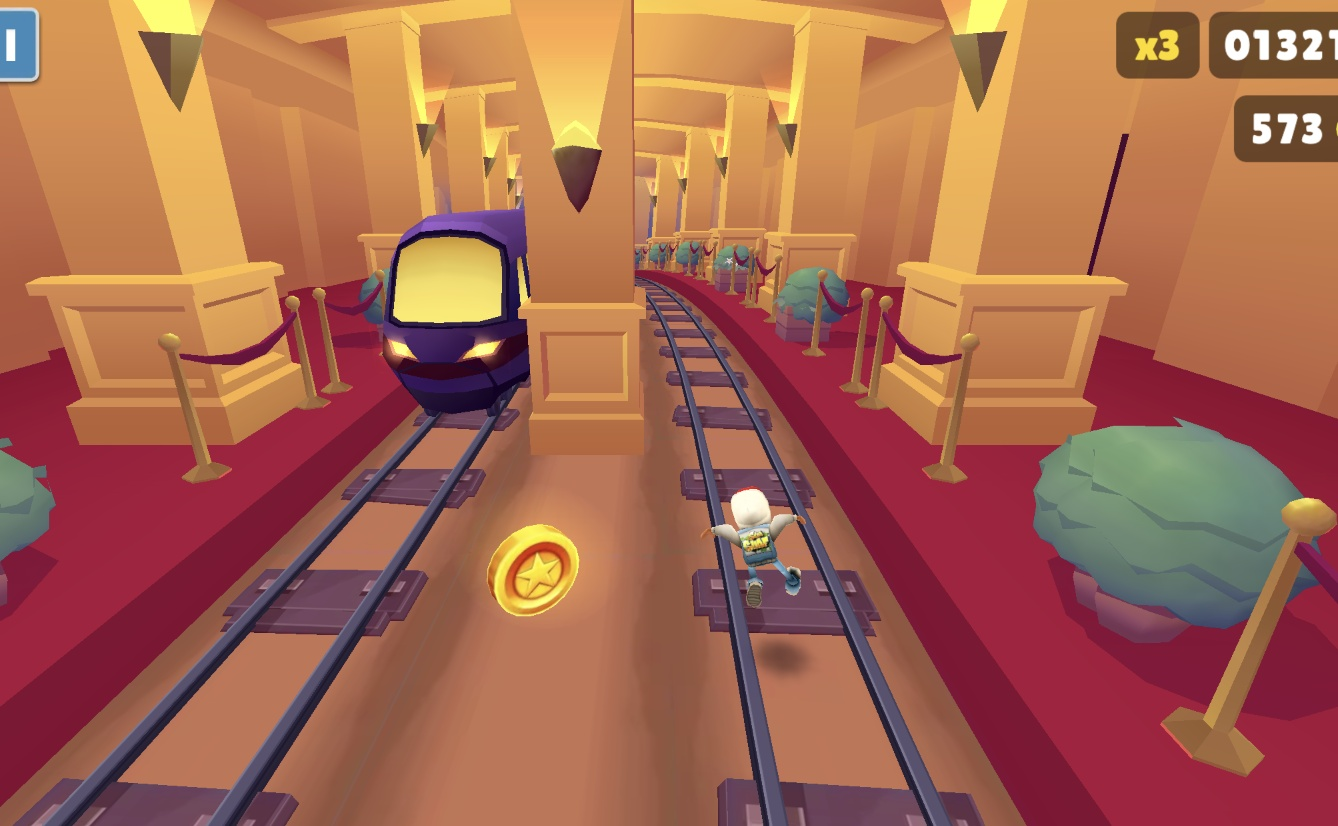pillar: (502, 0, 649, 487)
train: (387, 210, 534, 414)
